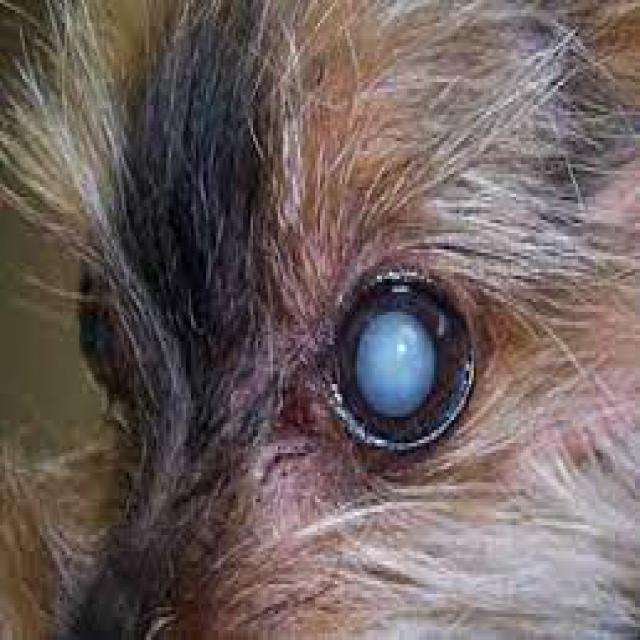eye: (311, 258, 485, 464)
